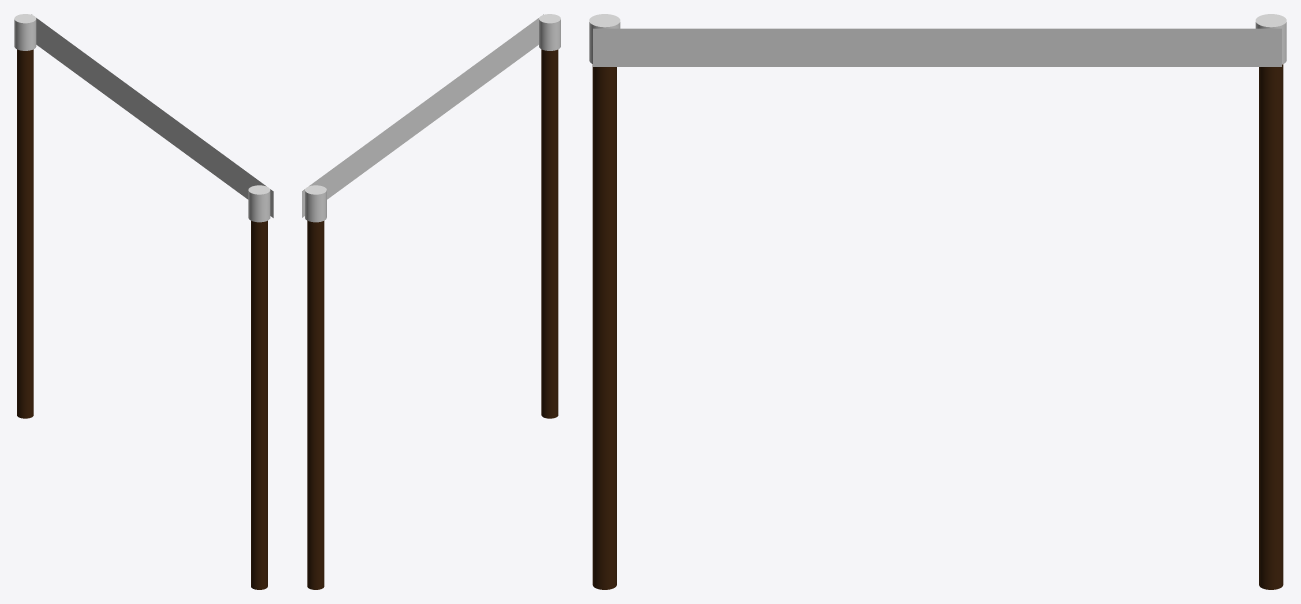
Rendered from finish_banner.fbx.
3 views of the same model, side by side, from view 1: azimuth 30°, elevation 25°; view 2: azimuth 150°, elevation 25°; view 3: azimuth 270°, elevation 25° (orthographic). The views are drawn at different scales.
Visible parts, largest first — view 1: Pole_2, Pole_1, Banner, TP_1, TP_2; view 2: Pole_1, Pole_2, Banner, TP_2, TP_1; view 3: Banner, Pole_2, Pole_1.
Part boxes in pixels (x1,y1,x2,y2): Pole_2: (17, 49, 33, 418); Pole_1: (251, 220, 267, 589); Banner: (31, 14, 273, 217); TP_1: (248, 185, 270, 222); TP_2: (14, 14, 36, 50); Pole_1: (541, 49, 558, 418); Pole_2: (307, 220, 324, 589); Banner: (302, 14, 543, 217); TP_2: (305, 185, 326, 222); TP_1: (539, 14, 560, 50); Banner: (593, 28, 1281, 66); Pole_2: (1259, 64, 1283, 589); Pole_1: (592, 64, 616, 589).
Size of the model in its own units: 0.3248 by 6.29 by 7.05.
